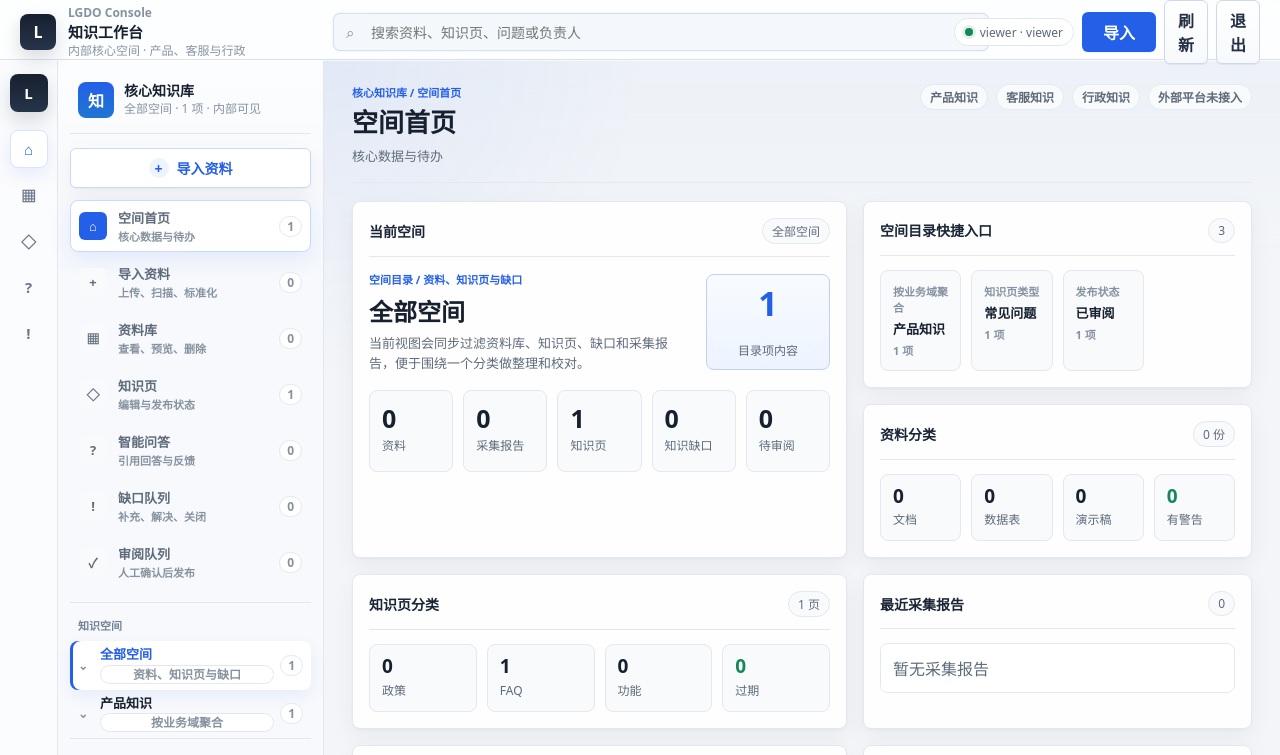
it: App vault integration › renders required workspace data before optional vault status resolves
Check: the text "LGDO Console" is shown, box 68,4 -> 152,21
Click the button titled "知识" at (28, 241), box 10,222 -> 48,260
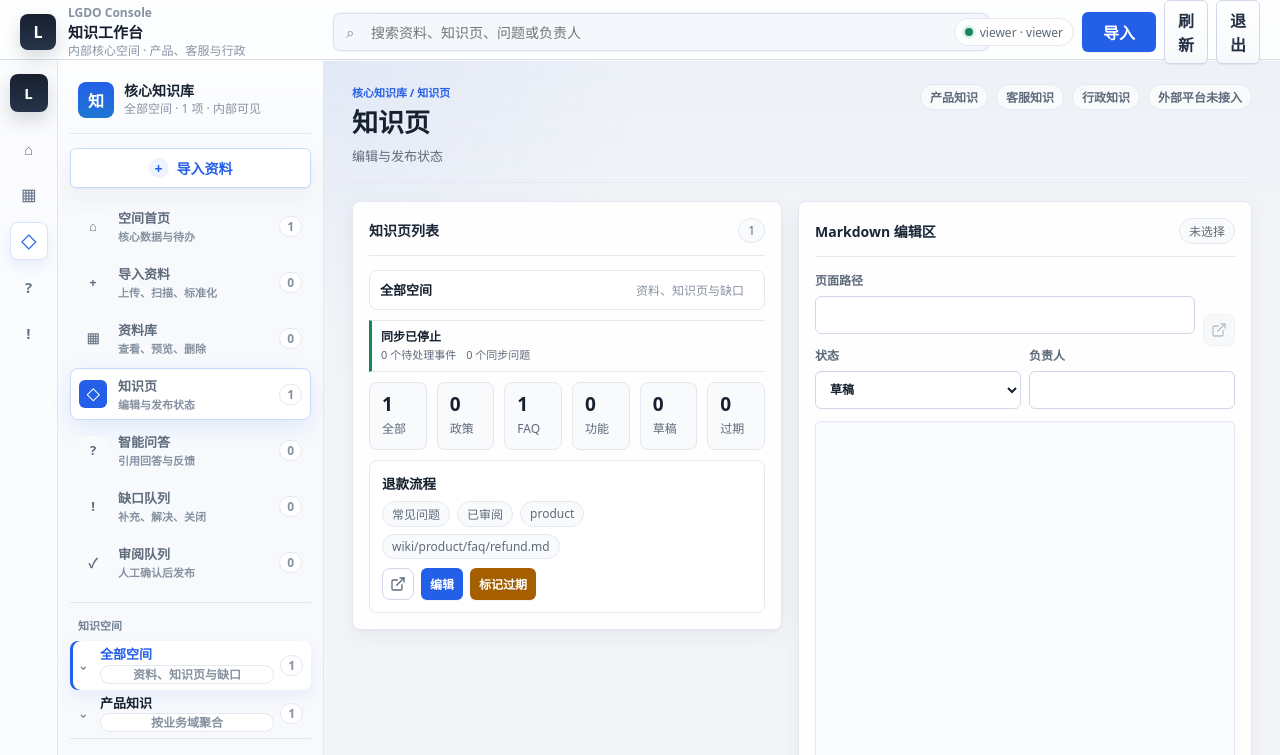
Check: the text "退款流程" is shown, box 382,475 -> 436,493
Check: the text "同步已停止" is shown, box 381,328 -> 441,345
